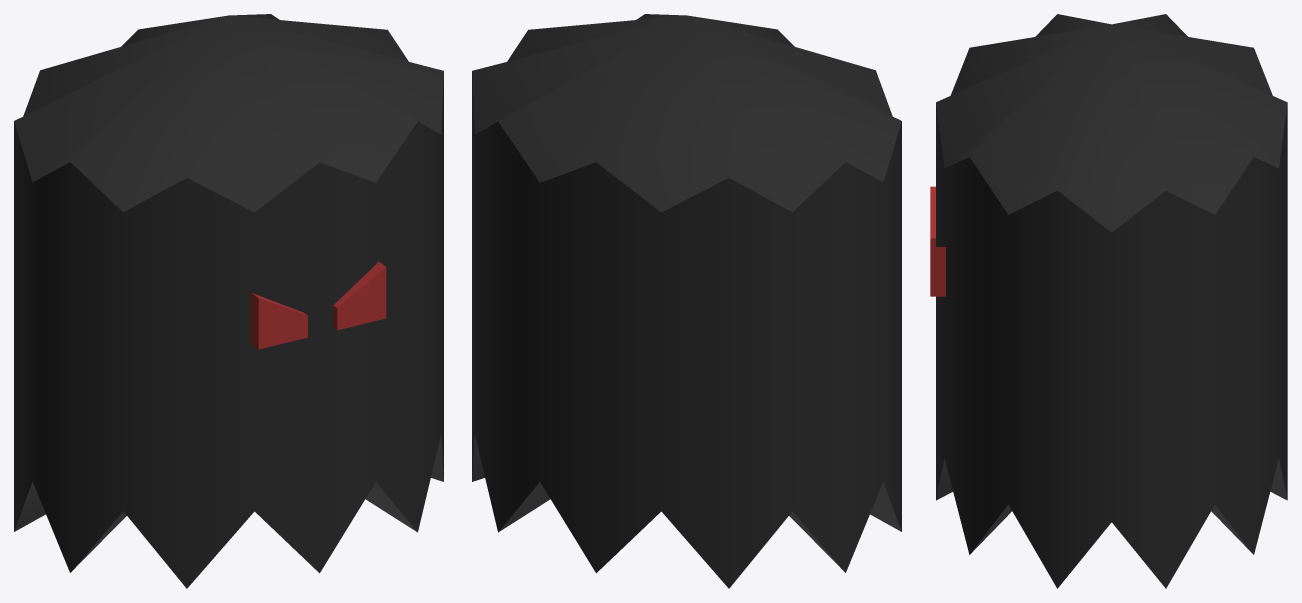
The model's file is monster.fbx.
The picture shows the model from 3 angles, left to right: view 1: azimuth 30°, elevation 25°; view 2: azimuth 150°, elevation 25°; view 3: azimuth 270°, elevation 25°; orthographic projection. The views are drawn at different scales.
Visible parts, largest first — view 1: pCylinder1, pCube2, pCube1; view 2: pCylinder1; view 3: pCylinder1, pCube2.
Boxes of the visible parts, x1=… form: pCylinder1: x1=14, y1=14, x2=443, y2=588; pCube2: x1=333, y1=261, x2=386, y2=330; pCube1: x1=250, y1=292, x2=307, y2=349; pCylinder1: x1=472, y1=14, x2=901, y2=588; pCylinder1: x1=936, y1=14, x2=1287, y2=588; pCube2: x1=930, y1=247, x2=945, y2=296.
Size of the model in its own units: 2 by 2.39 by 1.63.
